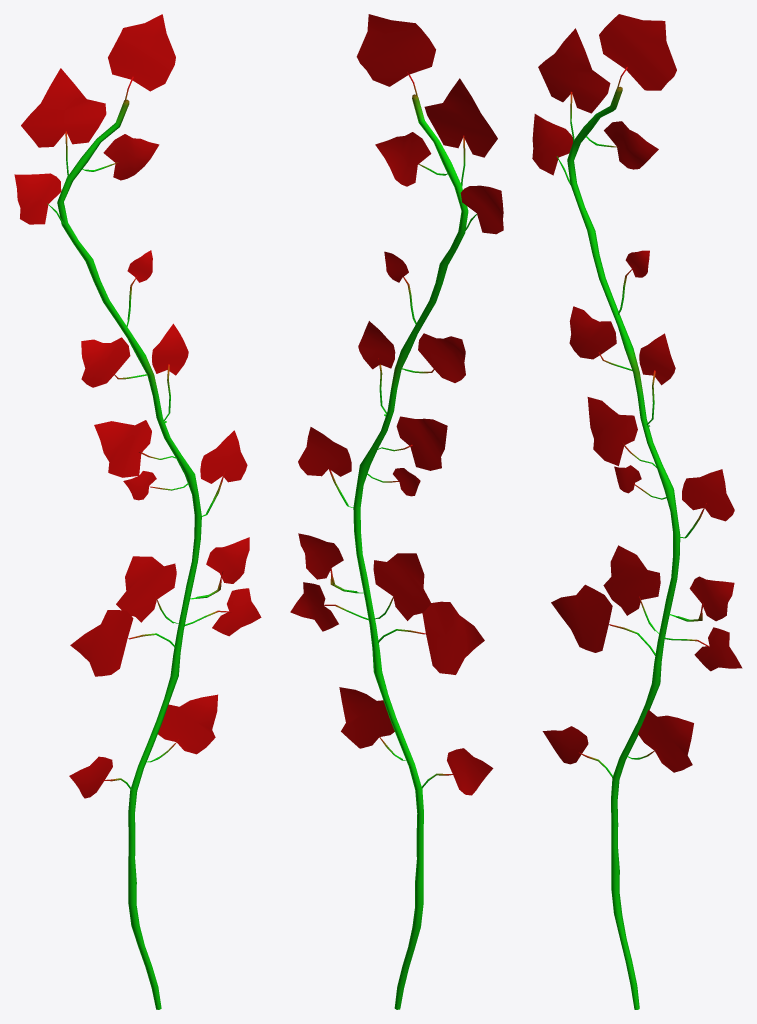
File: Var11_LOD1.fbx
3 views of the same model, side by side, from view 1: azimuth 30°, elevation 25°; view 2: azimuth 150°, elevation 25°; view 3: azimuth 330°, elevation 25° (orthographic).
Visible parts, largest first — view 1: _c05y_Var11_LOD1; view 2: _c05y_Var11_LOD1; view 3: _c05y_Var11_LOD1.
Part boxes in pixels (x1,y1,x2,y2): _c05y_Var11_LOD1: (14, 14, 261, 1009); _c05y_Var11_LOD1: (290, 14, 503, 1009); _c05y_Var11_LOD1: (532, 14, 742, 1009).
Size of the model in its own units: 17.79 by 73.44 by 3.26.
